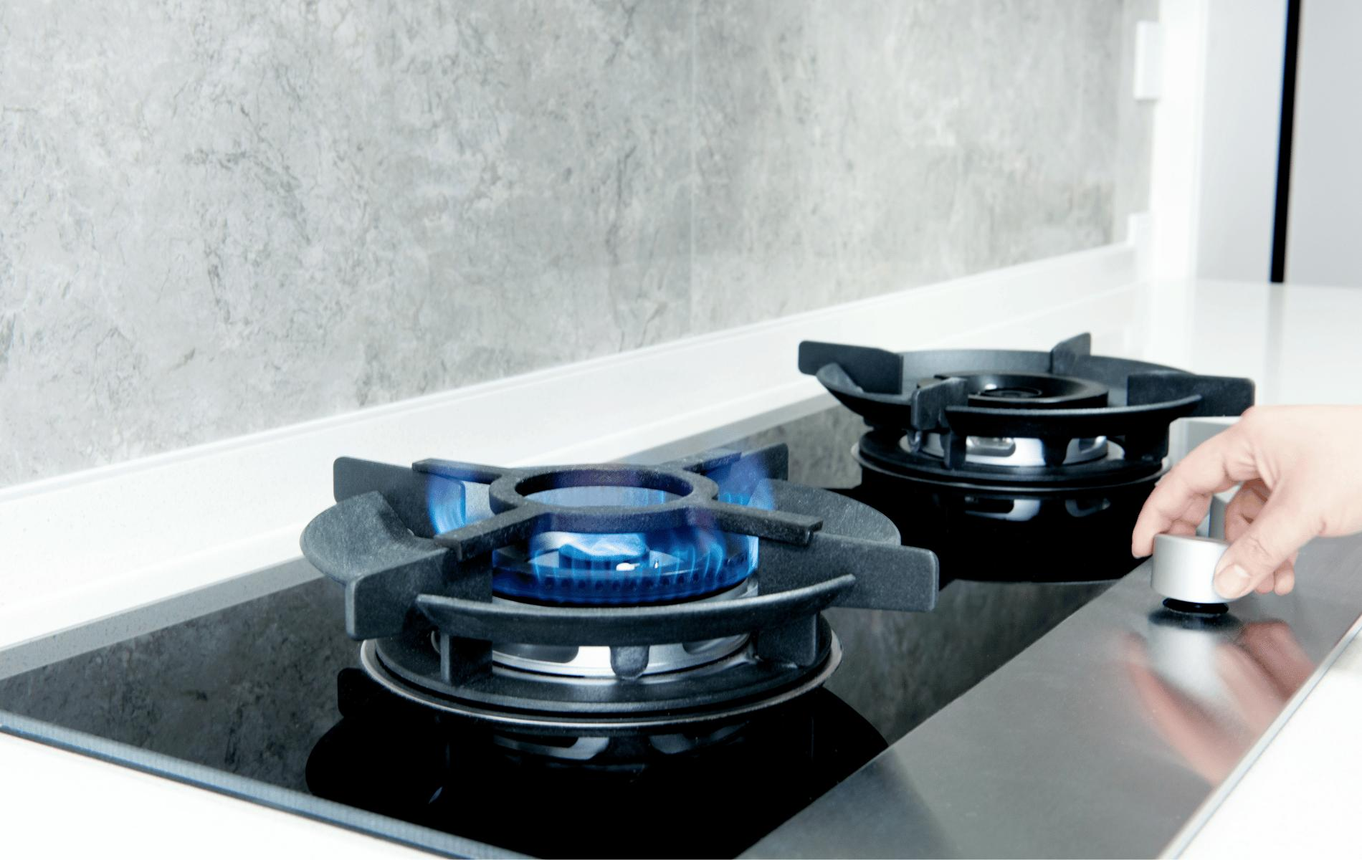controlled_fire: (391, 403, 801, 696)
